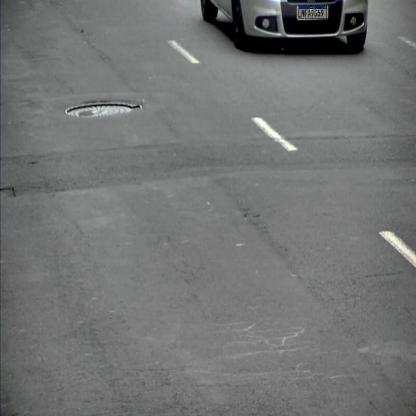PlacaM: (299, 5, 327, 19)
